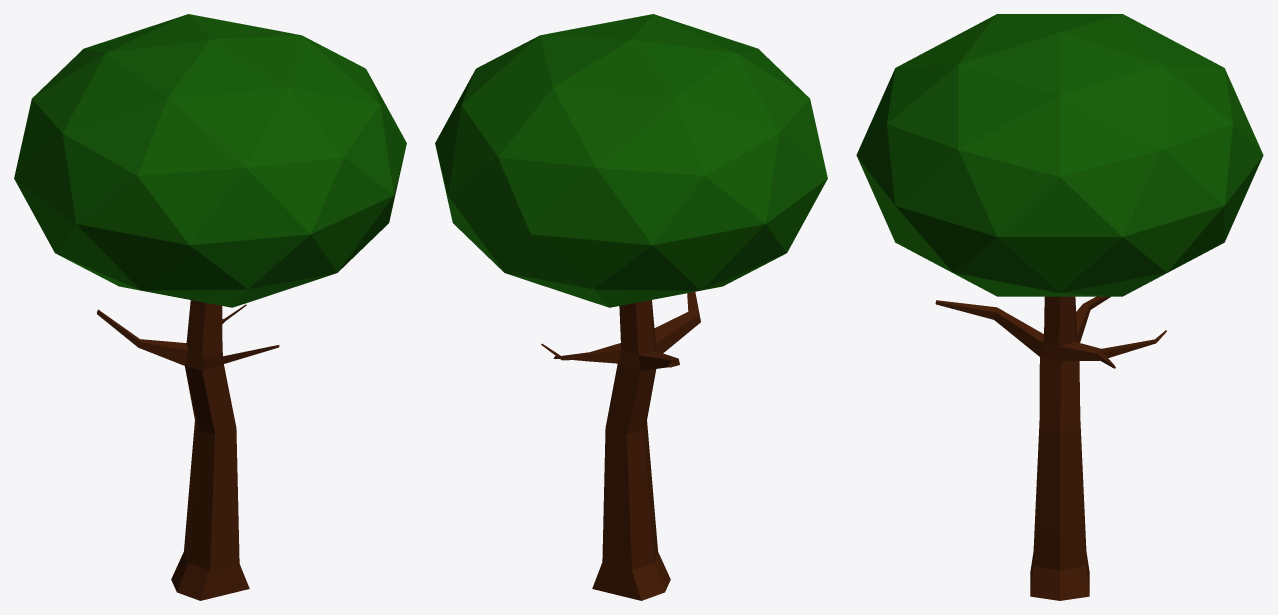
The model's file is _tree2.fbx.
3 renders of one model, left to right at view 1: azimuth 30°, elevation 25°; view 2: azimuth 150°, elevation 25°; view 3: azimuth 270°, elevation 25°, orthographic.
Visible parts, largest first — view 1: TreeTrunk, TreeStump; view 2: TreeTrunk, TreeStump; view 3: TreeTrunk, TreeStump.
Boxes of the visible parts, x1,y1,x2,y2 form: TreeTrunk: (14, 14, 406, 532); TreeStump: (171, 515, 249, 600); TreeTrunk: (435, 14, 827, 532); TreeStump: (592, 515, 670, 600); TreeTrunk: (856, 14, 1263, 531); TreeStump: (1030, 516, 1089, 600).
Size of the model in its own units: 1180 by 1856 by 1240.
